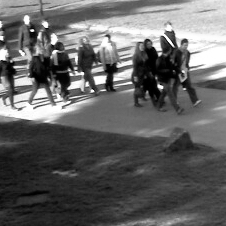person: (174, 36, 203, 108), (28, 45, 56, 108), (158, 44, 182, 113), (97, 33, 123, 92), (75, 34, 99, 97), (51, 42, 74, 100), (132, 41, 152, 107), (1, 38, 19, 111), (145, 38, 162, 103), (18, 13, 35, 70), (36, 19, 55, 54), (160, 20, 179, 52)
